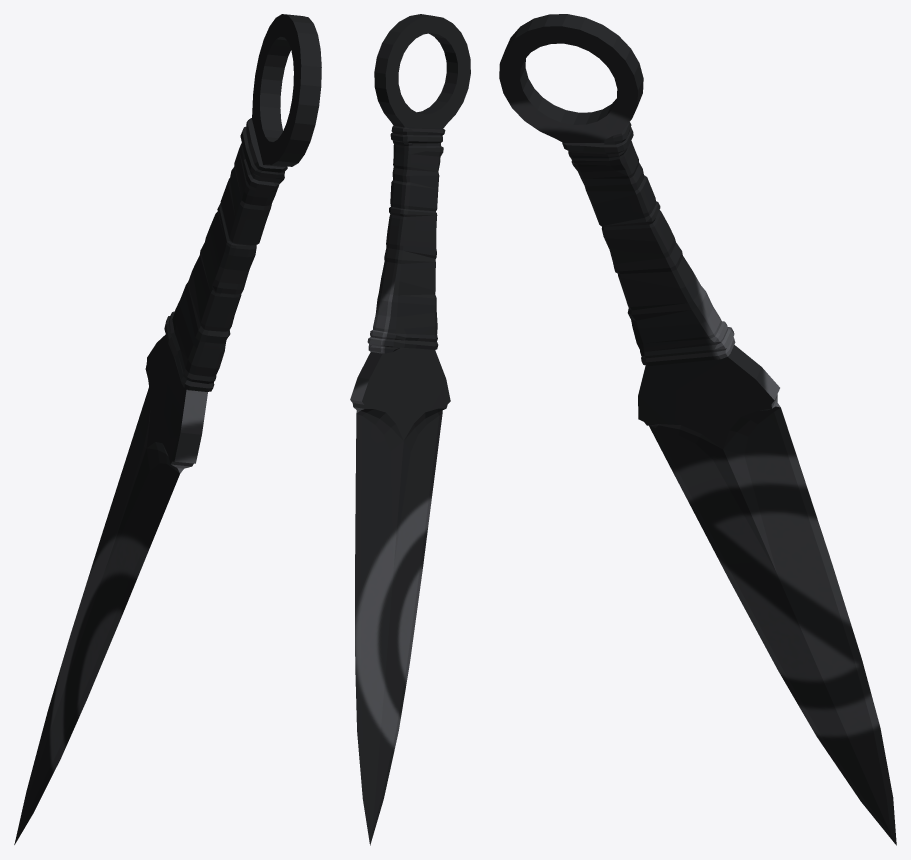
File: kunai.glb
The picture shows the model from 3 angles, left to right: view 1: azimuth 30°, elevation 25°; view 2: azimuth 150°, elevation 25°; view 3: azimuth 270°, elevation 25°; orthographic projection. The views are drawn at different scales.
Visible parts, largest first — view 1: L0_LOD0_15; view 2: L0_LOD0_15; view 3: L0_LOD0_15.
Boxes of the visible parts, bbox=[...] form: L0_LOD0_15: bbox=[14, 14, 321, 844]; L0_LOD0_15: bbox=[350, 14, 470, 845]; L0_LOD0_15: bbox=[499, 14, 896, 845].
Bounding box in the file's own units: 0.0679 × 0.4487 × 0.1834.
Materials: 1 (1 with a texture image).
